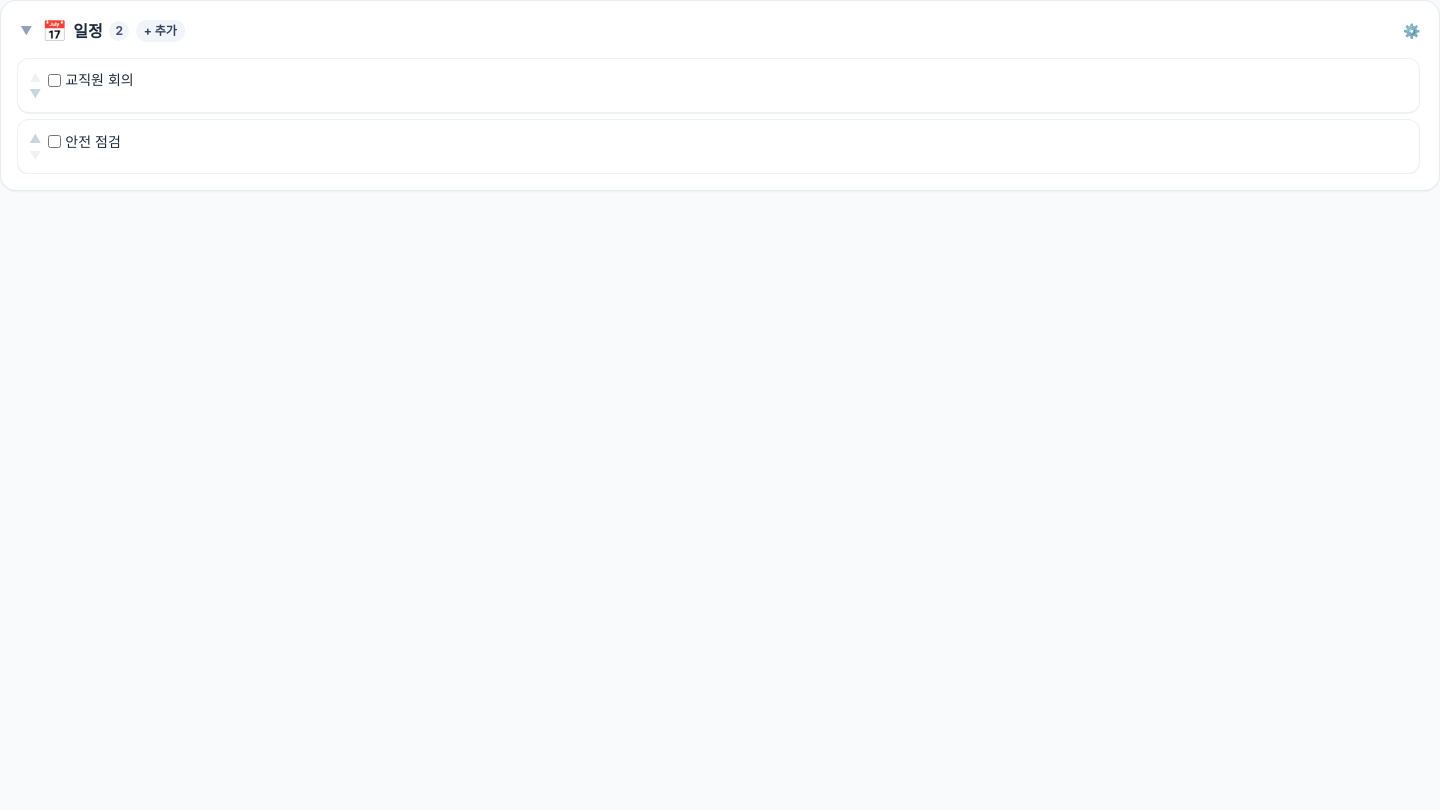
Test case: DayEvents - 일정을 누르면 오른쪽 칸에서 고친다 › 일정을 클릭하면 오른쪽 칸에 그 일정의 수정 칸이 열린다
Step 1. Click the text "교직원 회의" → (99, 80), box [65, 71, 134, 88]
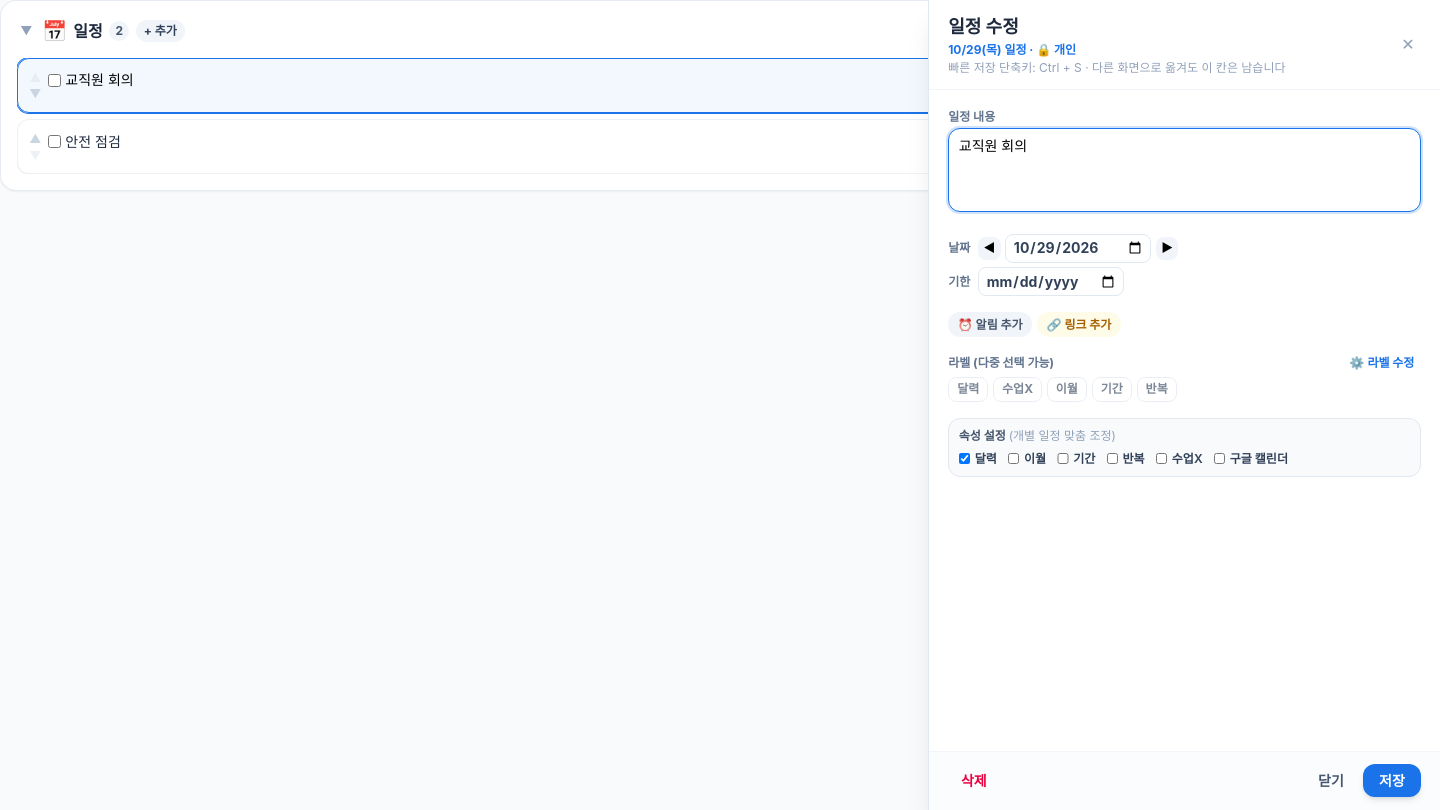
Check: the text "안전 점검" is shown, box [65, 132, 121, 149]
Check: the heading "일정 수정" is shown, box [948, 16, 1019, 37]
Check: the text box showing "교직원 회의" is shown, box [948, 128, 1421, 212]
